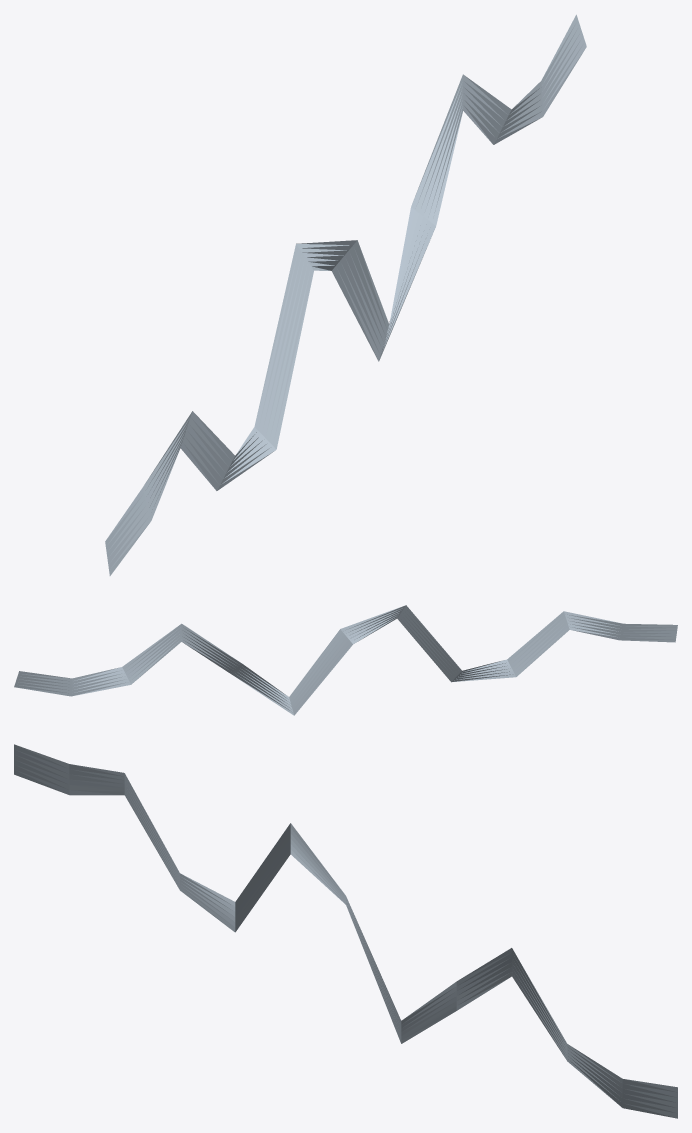
Rendered from 2065_LightningCage_Overall_CageArc_5_1.fbx.
3 views of the same model, one above another, from view 1: azimuth 30°, elevation 25°; view 2: azimuth 150°, elevation 25°; view 3: azimuth 270°, elevation 25° (orthographic). The views are drawn at different scales.
Parts seen in each view (by area): view 1: PART_CageArc_5_1; view 2: PART_CageArc_5_1; view 3: PART_CageArc_5_1.
Boxes of the visible parts, x1,y1,x2,y2 form: PART_CageArc_5_1: (105, 14, 586, 575); PART_CageArc_5_1: (14, 605, 677, 715); PART_CageArc_5_1: (14, 744, 677, 1118).
Bounding box in the file's own units: 62.02 × 13.58 × 50.23.
